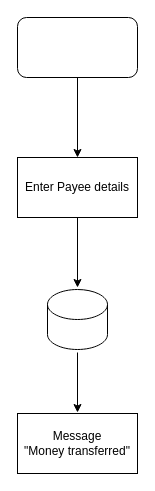
This 155x491 diagram has some shape labels left out. Here are the shapes that lost their labels. From the top down, the centre of each, then its label:
At [77,47]: "Transfer cash".
At [77,319]: "Db".
